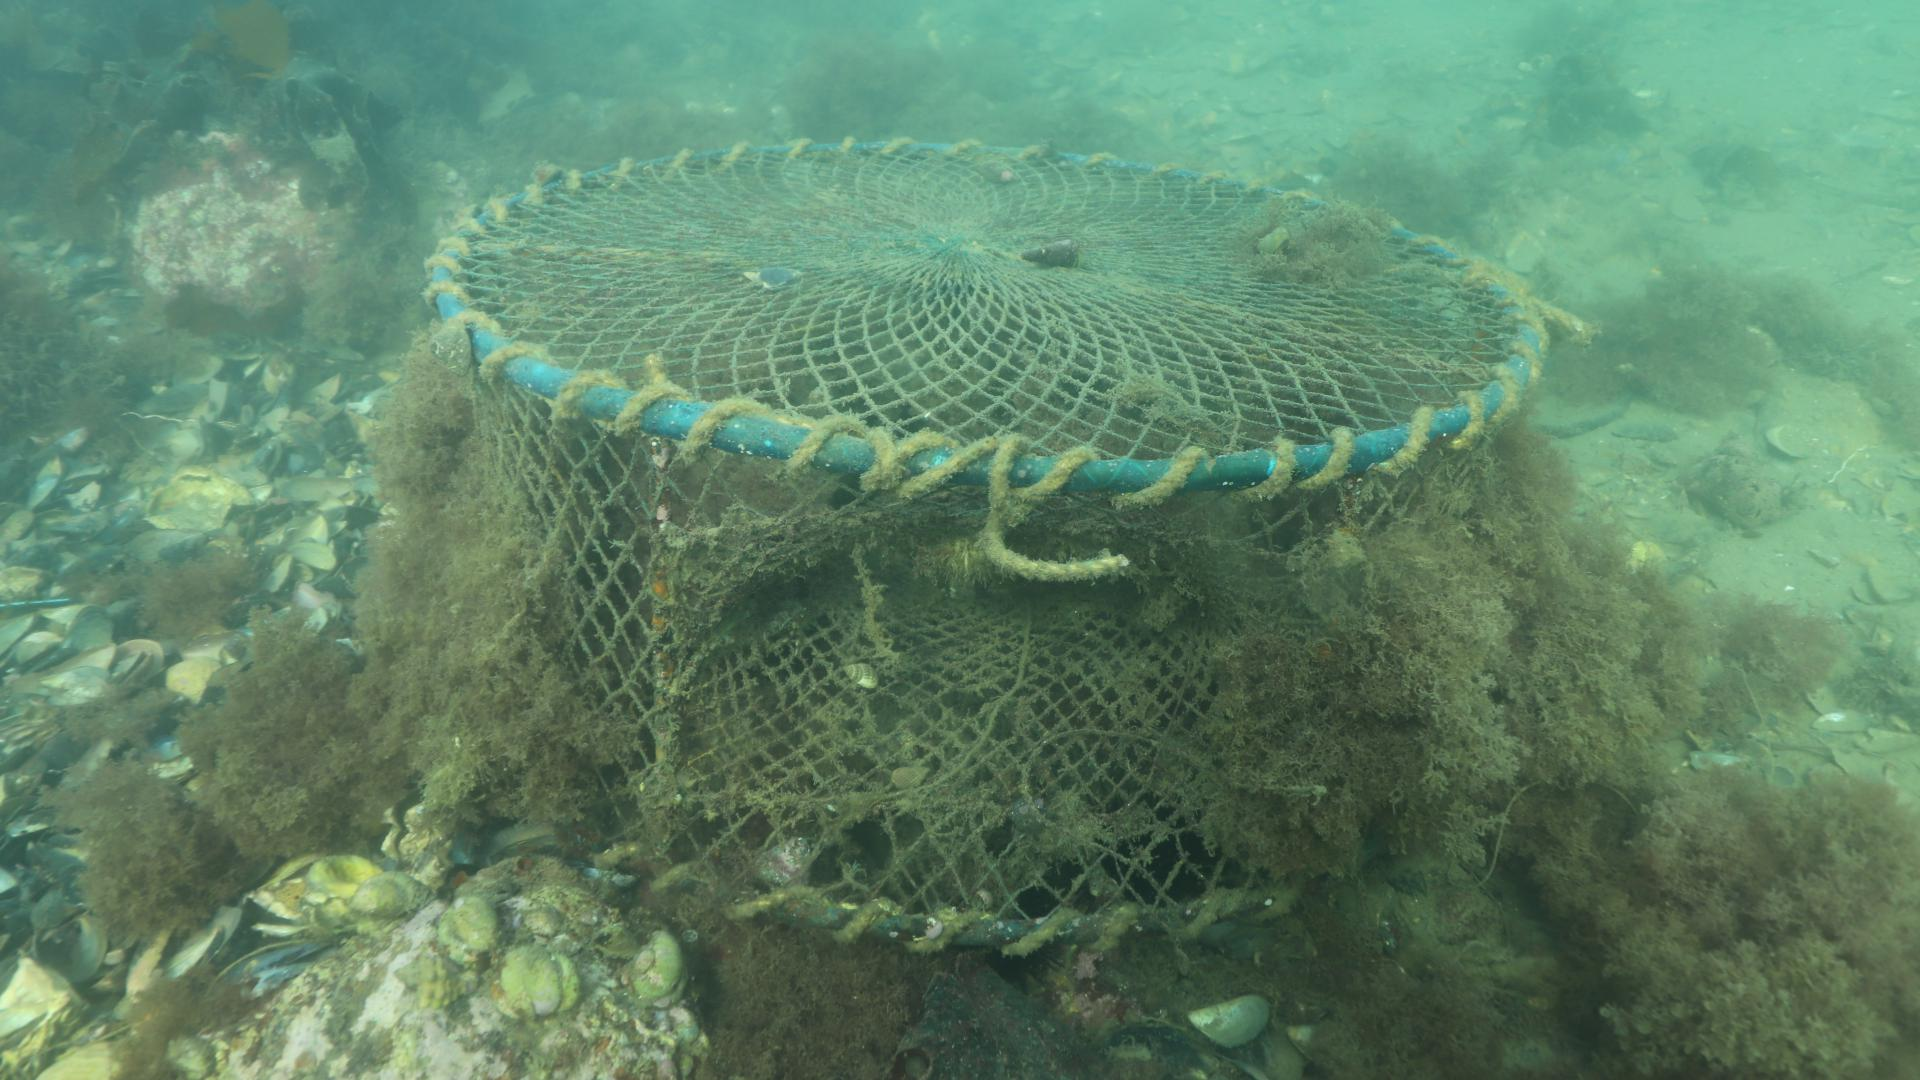circular fish trap: (426, 136, 1548, 953)
